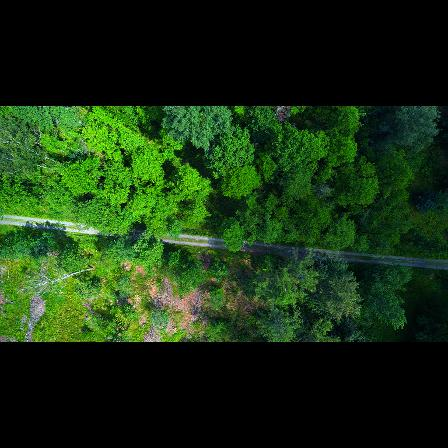Dead: (19, 266, 93, 297)
